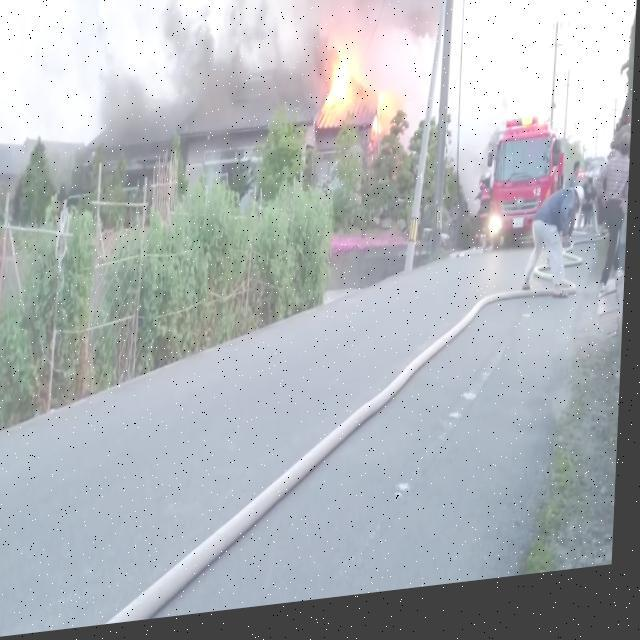Fire: (326, 53, 356, 114), (377, 99, 402, 134)
